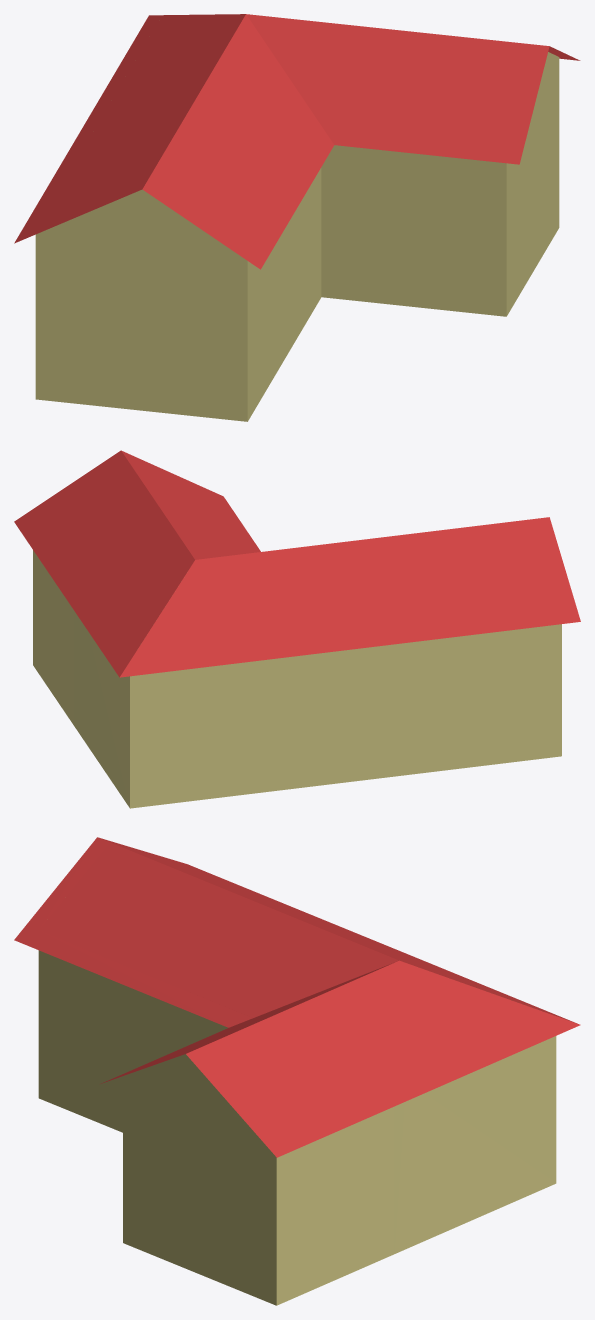
The picture shows the model from 3 angles, top to bottom: view 1: azimuth 30°, elevation 25°; view 2: azimuth 150°, elevation 25°; view 3: azimuth 270°, elevation 25°; orthographic projection. The views are drawn at different scales.
Bounding box in the file's own units: 19.87 × 16.22 × 7.1.
